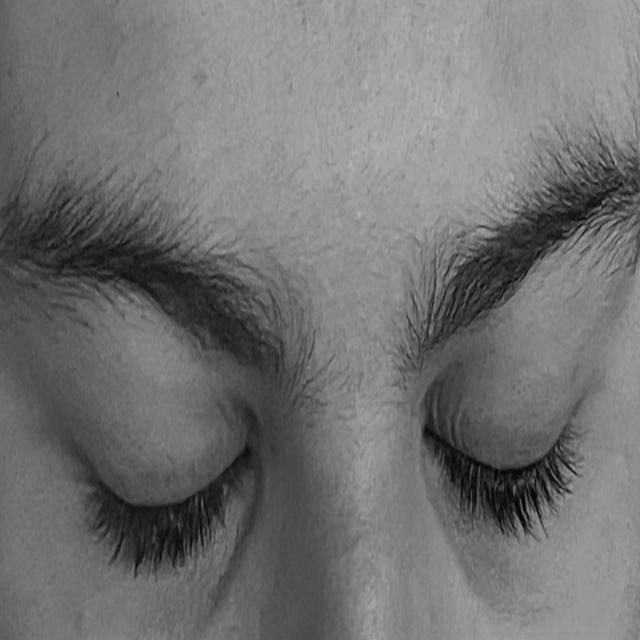real: (66, 262, 628, 610)
